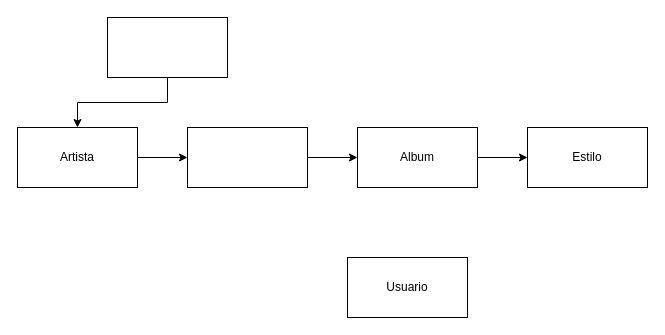
This 665x335 diagram has some shape labels left out. Here are the shapes that lost their labels. From the top down, the box of each, then its label:
(106, 16, 228, 78): Empresa
(186, 126, 308, 188): lancamento
